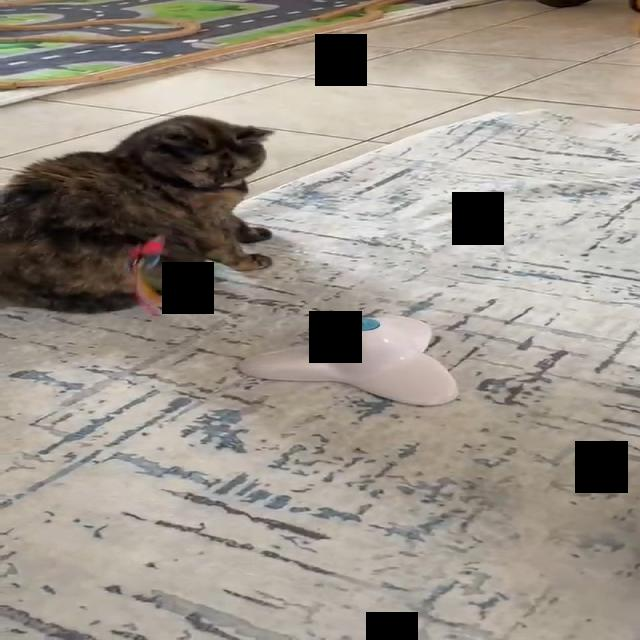authorized: (0, 114, 275, 314)
